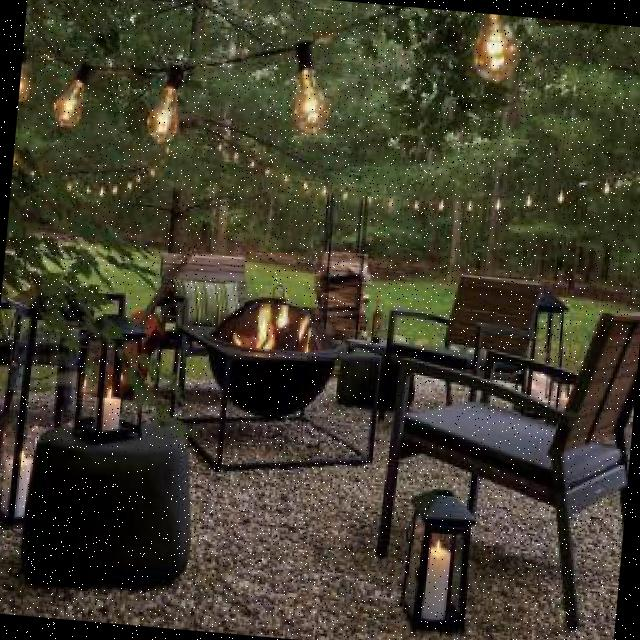fire: (240, 301, 311, 361)
